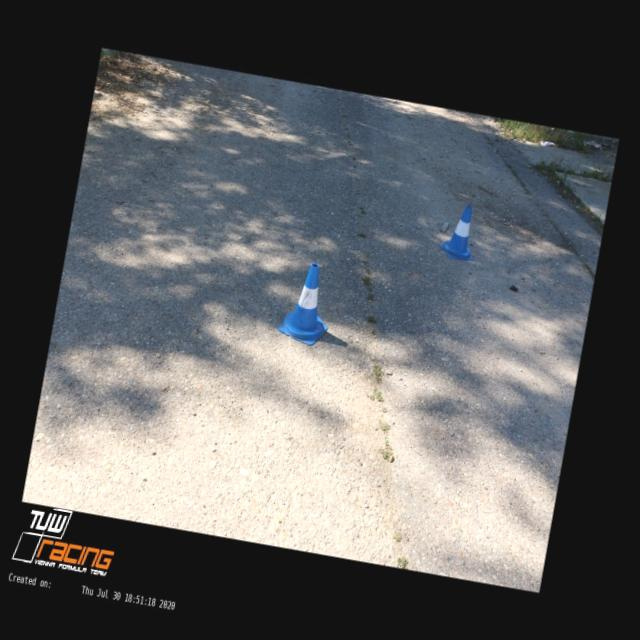blue_cone: (275, 258, 338, 347), (438, 200, 483, 262)
